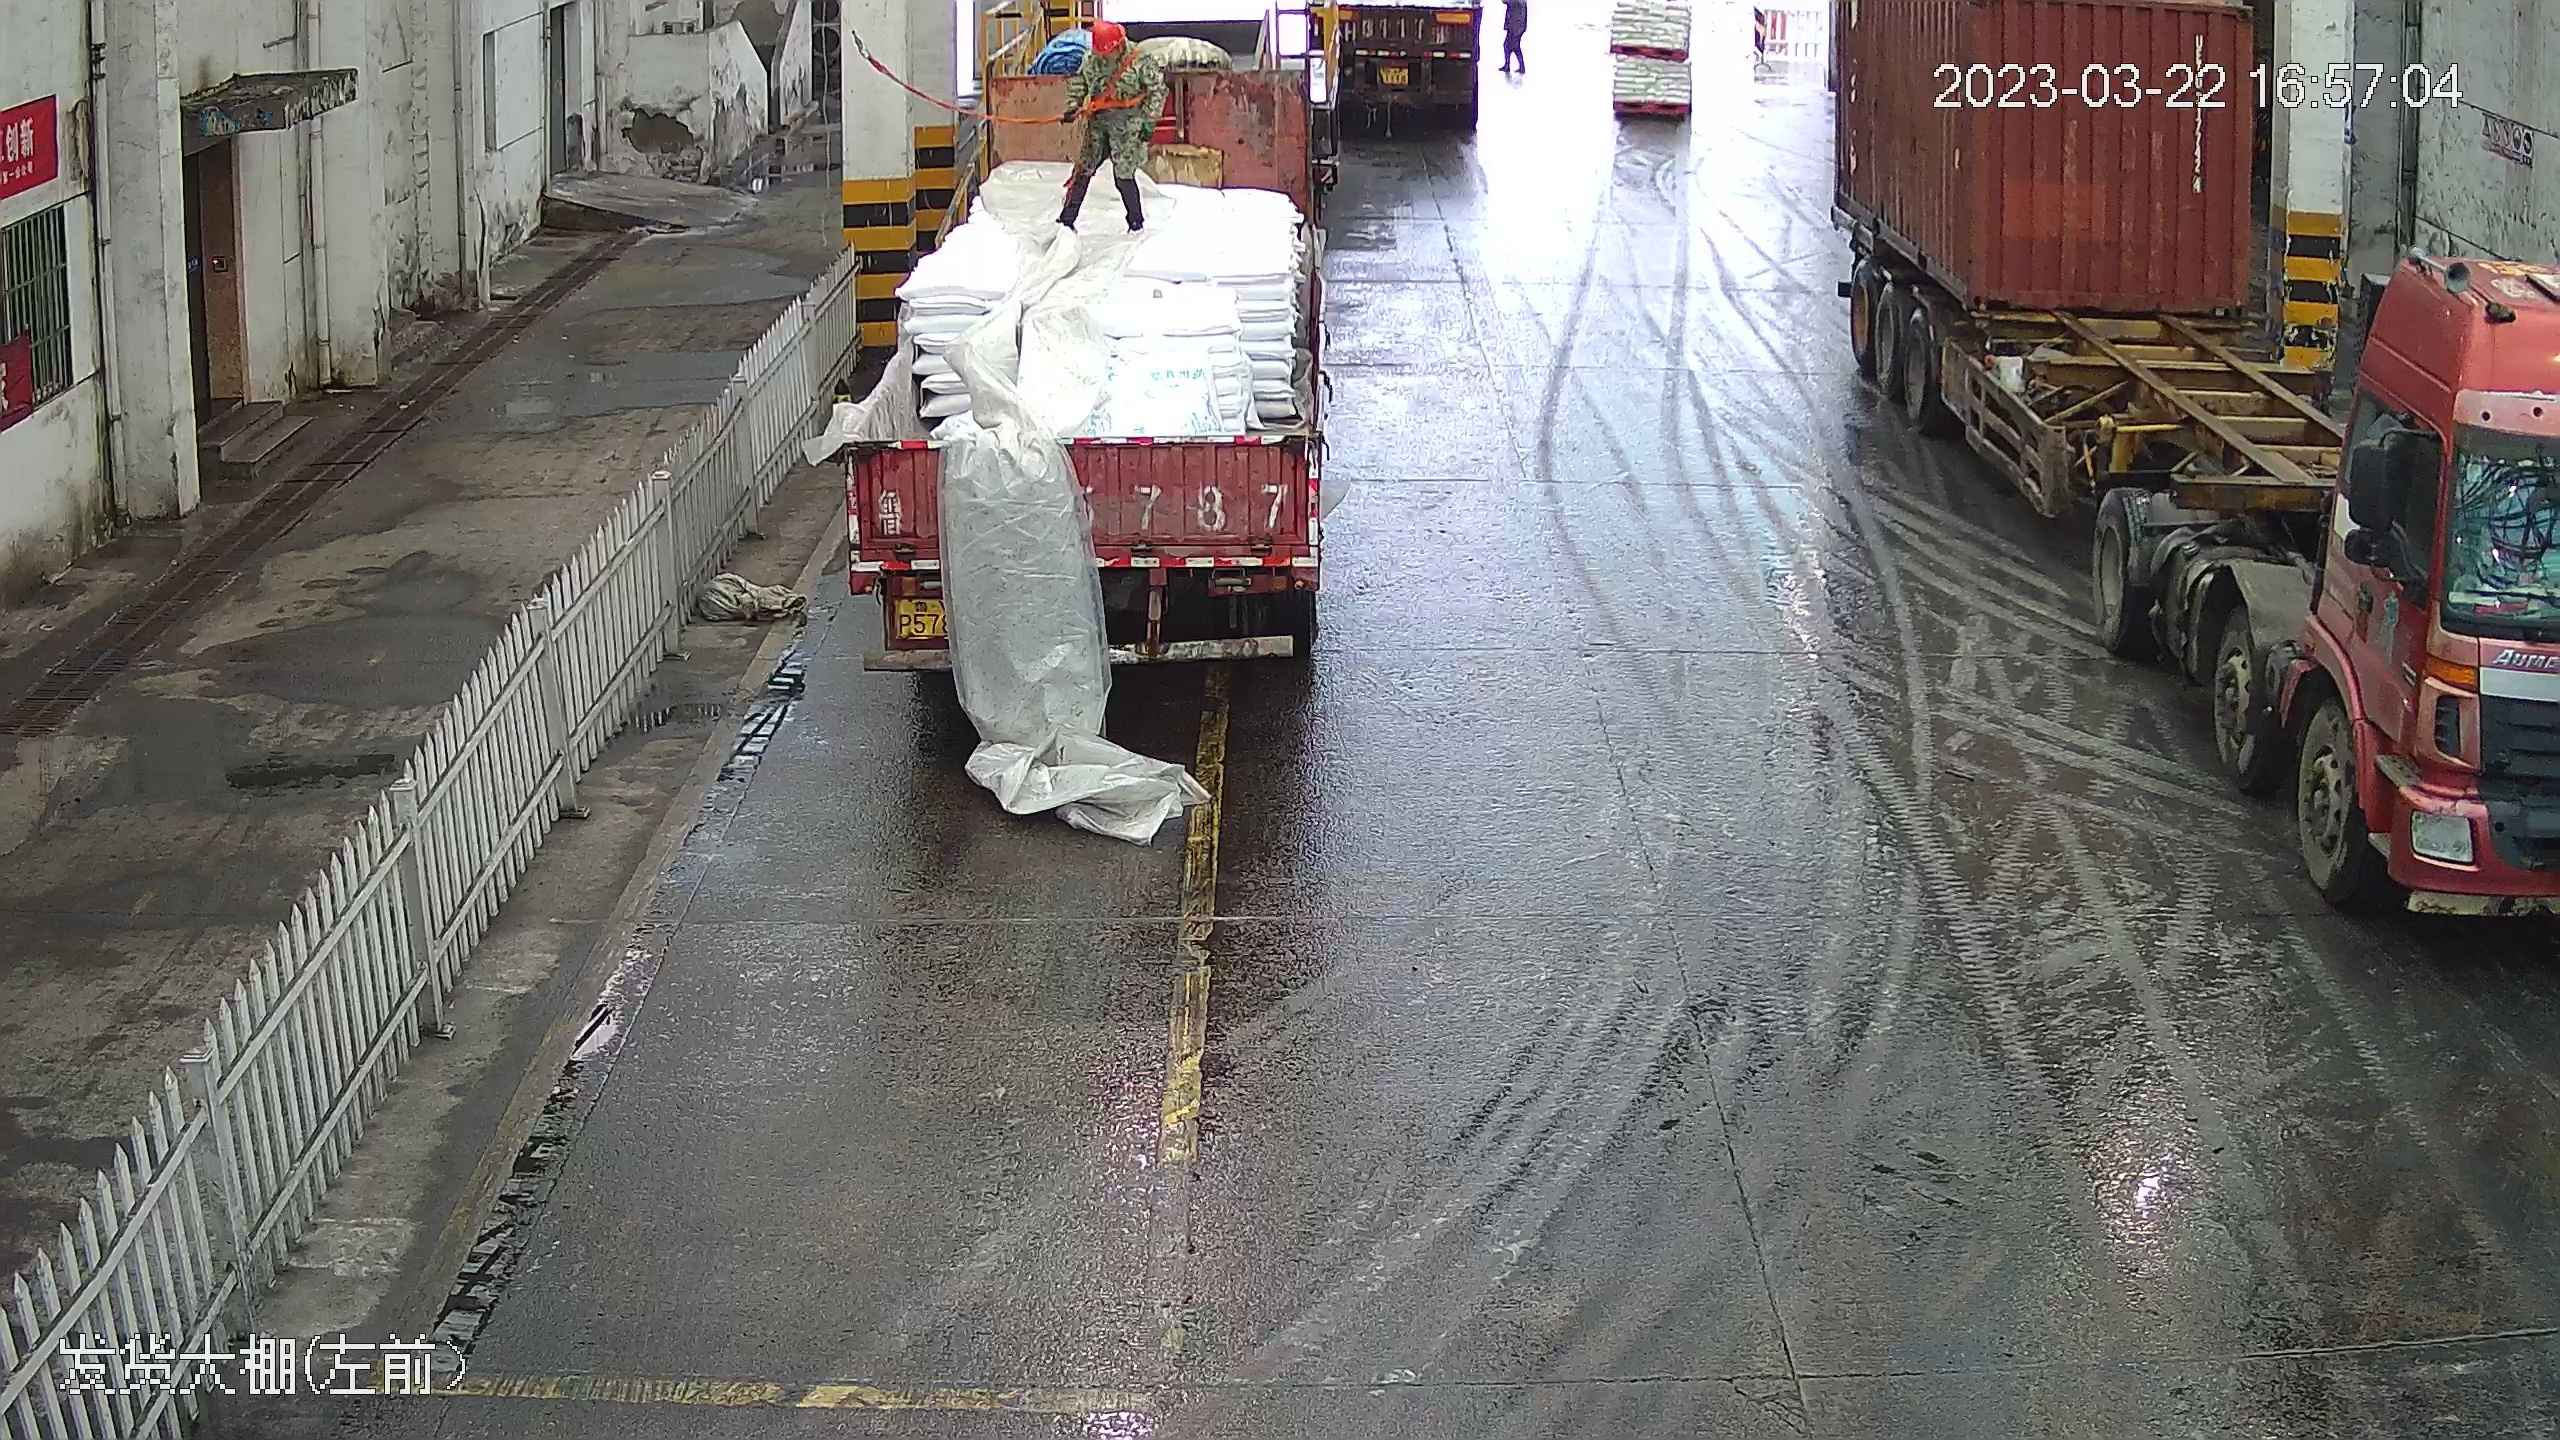belt: (1085, 50, 1138, 109)
head: (1072, 13, 1140, 80)
people: (1047, 12, 1155, 242), (1497, 0, 1534, 74)
truck: (1830, 28, 2560, 959), (1018, 10, 1337, 678)
